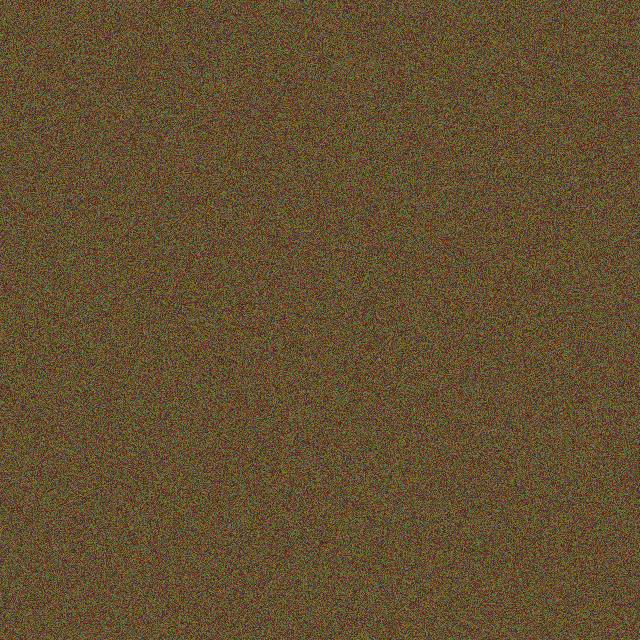human: (292, 113, 369, 175)
